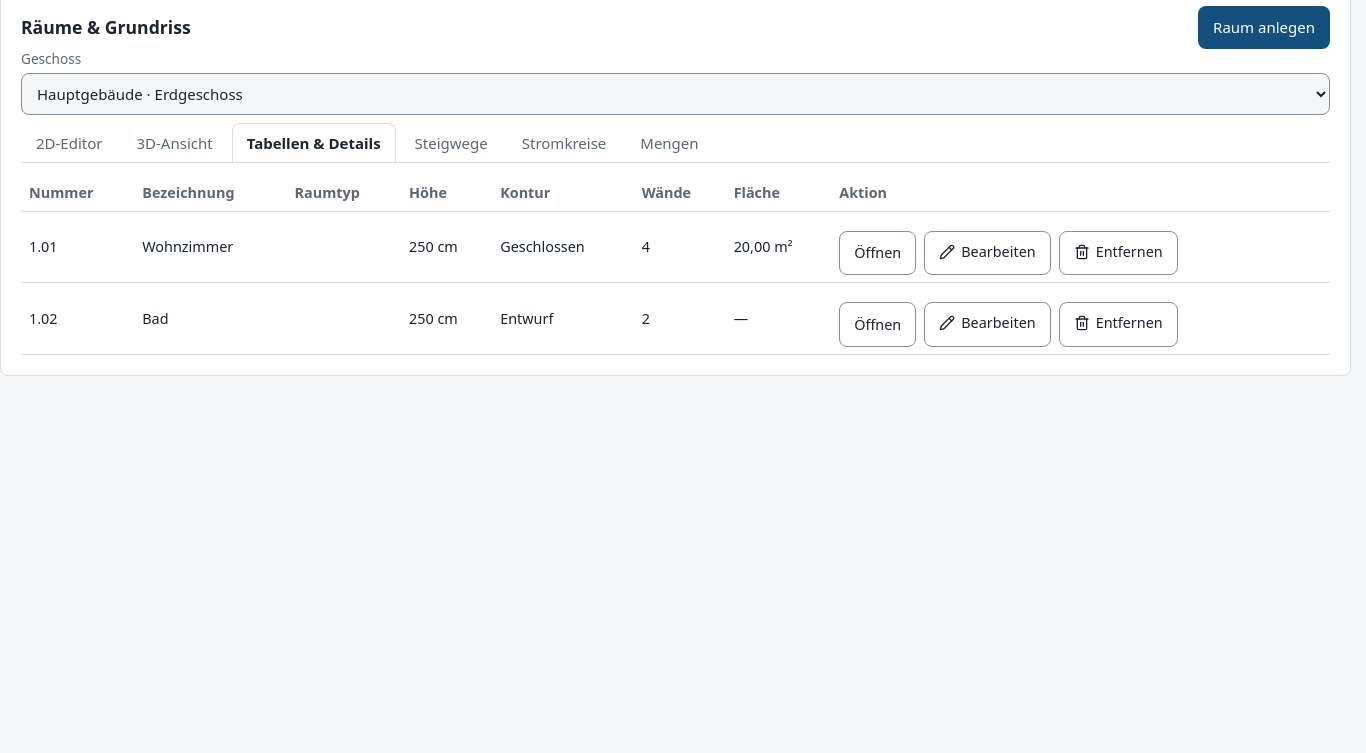
Raum öffnen › lehnt eine Oeffnung ausserhalb der Wand sofort ab
The image size is (1366, 753).
Expected: the text "Wohnzimmer" is shown, top-left (134, 212), bottom-right (287, 283)
Click the button with aria-label "Raum Wohnzimmer öffnen" at coordinates (878, 253), box top-left (839, 231), bottom-right (916, 275)
(page scrolled)
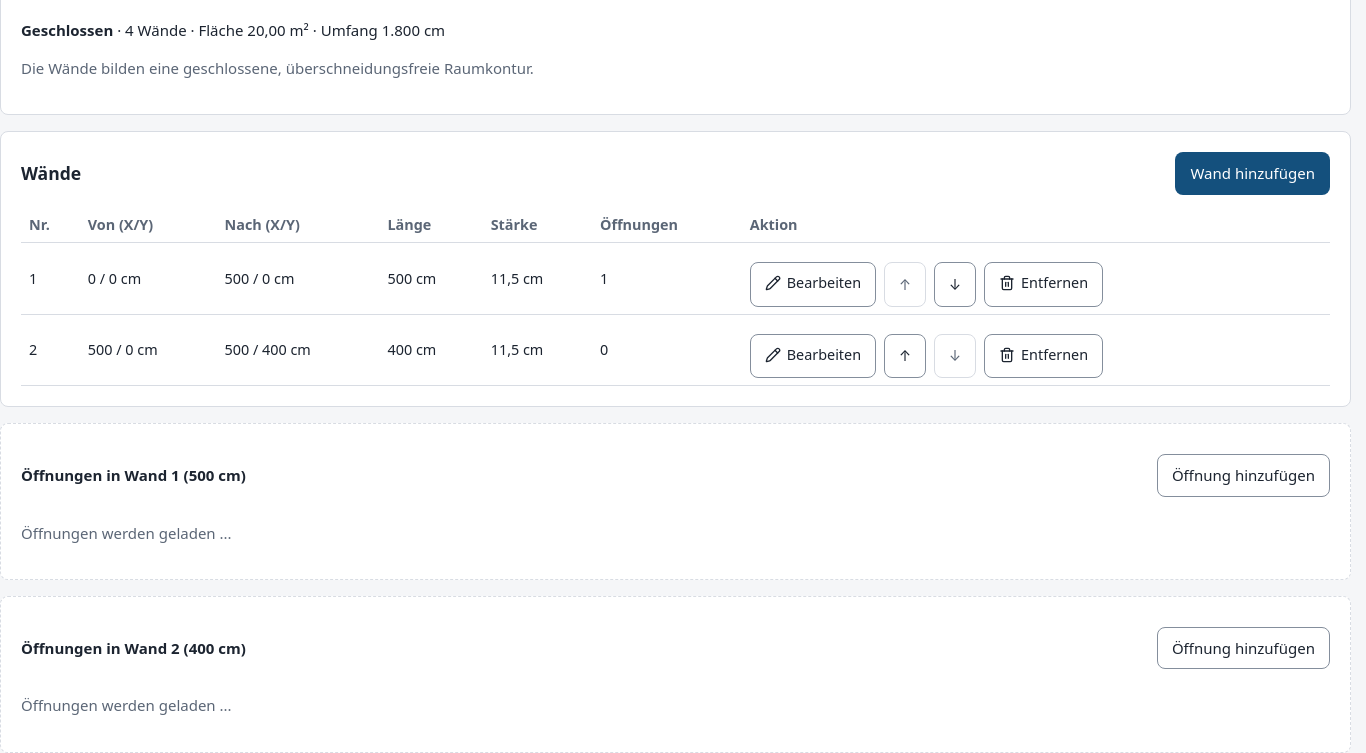
Expected: the heading "Öffnungen in Wand 1 (500 cm)" is shown, top-left (21, 464), bottom-right (246, 487)
Click the 1st button "Öffnung hinzufügen" at coordinates (1243, 475), box top-left (1157, 454), bottom-right (1330, 497)
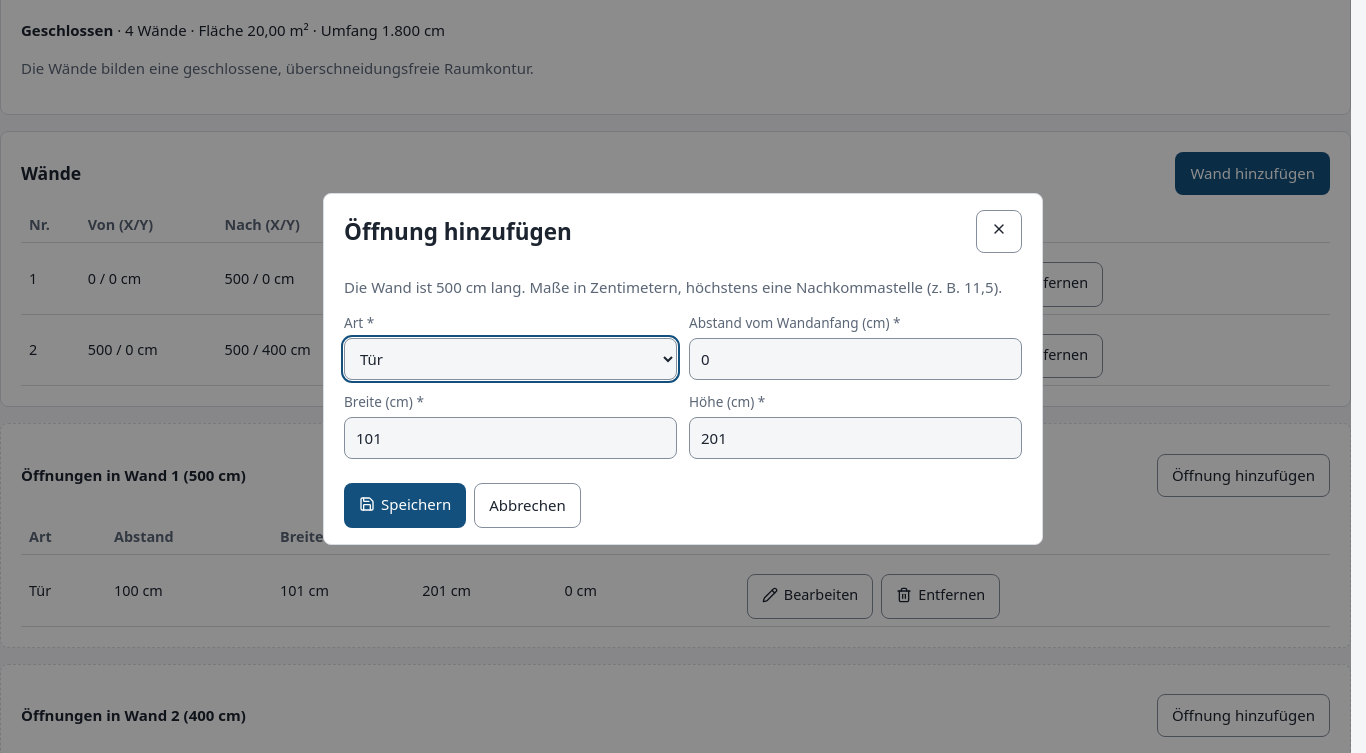
Replace the text in the field labelled "Abstand vom Wandanfang (cm) *" with "450" at coordinates (856, 359), box top-left (689, 338), bottom-right (1022, 380)
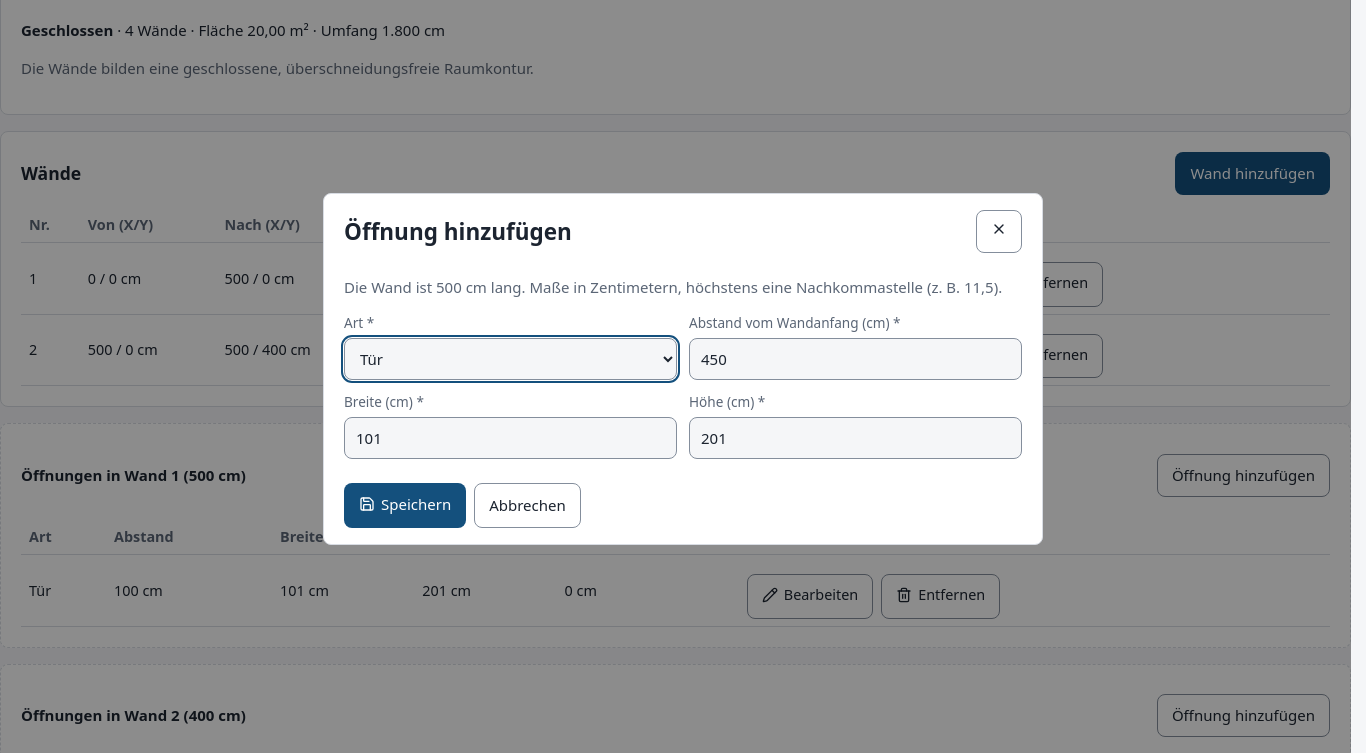
Click the button "Speichern" at coordinates (405, 505), box top-left (344, 483), bottom-right (466, 528)
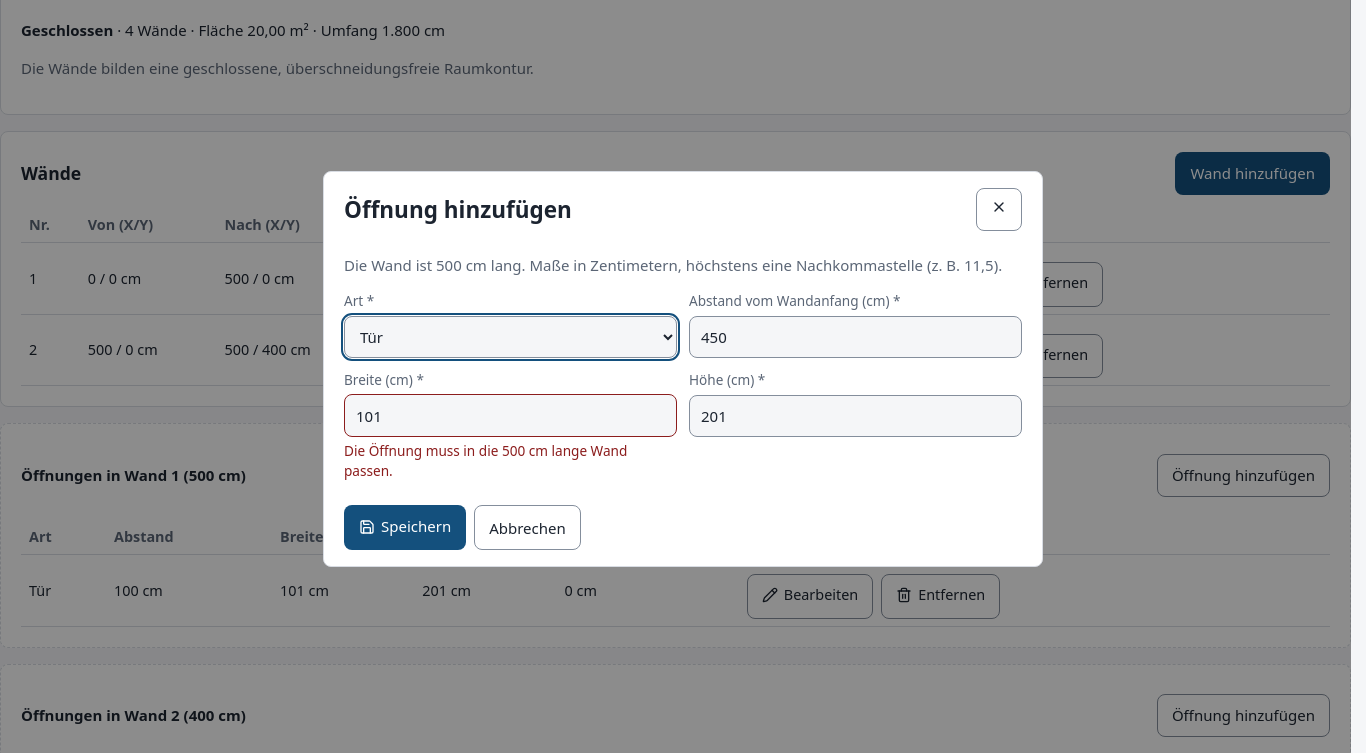
Expected: the text "Die Öffnung muss in die 500 cm lange Wand passen." is shown, top-left (344, 441), bottom-right (677, 481)
